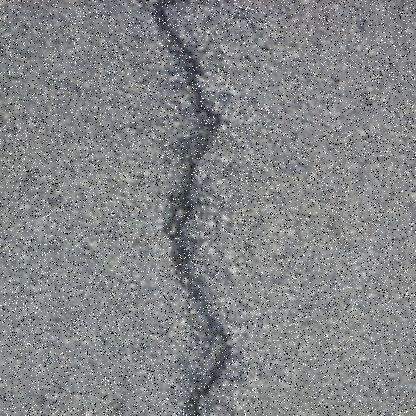Cracks: (136, 0, 253, 416)
